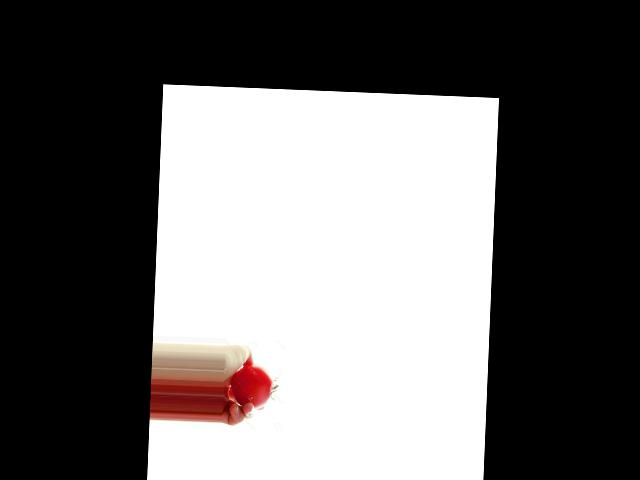tomato: (230, 364, 274, 410)
